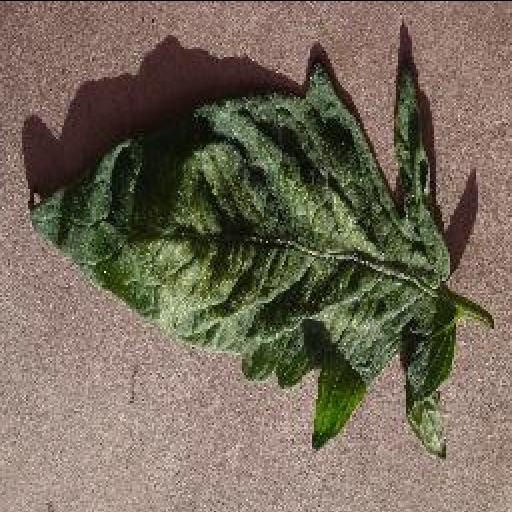disease_tomato: (23, 65, 457, 454)
